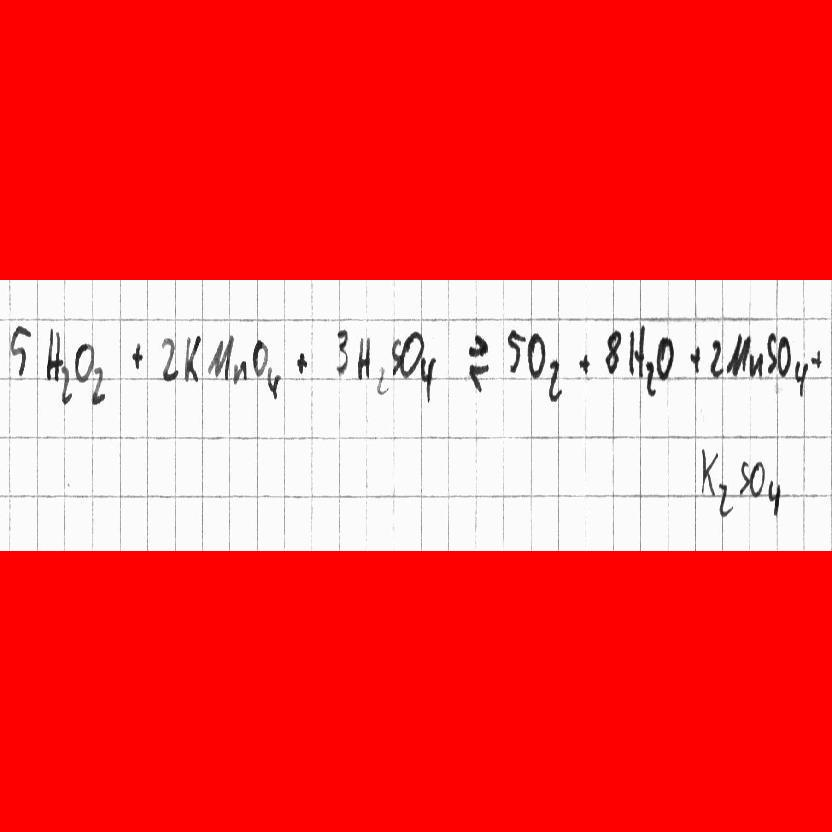Char: (465, 330, 489, 396), (5, 322, 30, 380), (400, 328, 426, 378), (72, 340, 96, 383), (44, 326, 62, 383), (157, 335, 178, 383), (698, 447, 718, 497), (209, 334, 230, 381), (526, 330, 545, 379), (727, 333, 747, 379), (602, 329, 621, 377), (419, 353, 437, 403), (184, 333, 202, 382), (504, 328, 524, 372), (353, 332, 370, 381), (333, 327, 349, 378), (657, 334, 674, 379), (545, 358, 562, 402), (628, 326, 642, 379), (89, 367, 107, 406), (766, 476, 781, 520), (764, 330, 779, 374), (708, 338, 724, 378), (748, 460, 765, 497), (387, 335, 401, 378), (250, 339, 265, 378), (718, 481, 734, 517), (57, 363, 71, 404), (777, 337, 791, 377), (645, 356, 657, 398), (265, 368, 281, 399), (794, 358, 807, 396), (747, 349, 763, 379), (687, 344, 702, 375), (576, 350, 592, 378), (294, 349, 310, 376), (130, 340, 143, 373), (375, 365, 389, 394), (740, 458, 750, 496), (231, 357, 246, 382), (812, 347, 824, 370)
